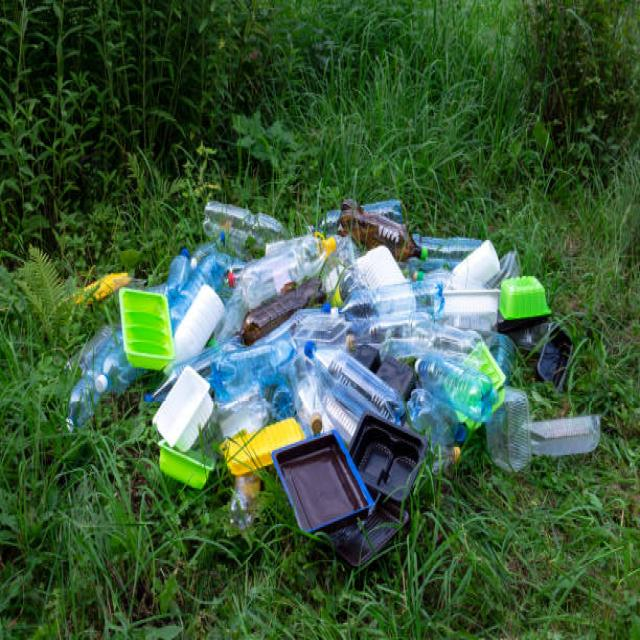plastic: (111, 196, 595, 557)
